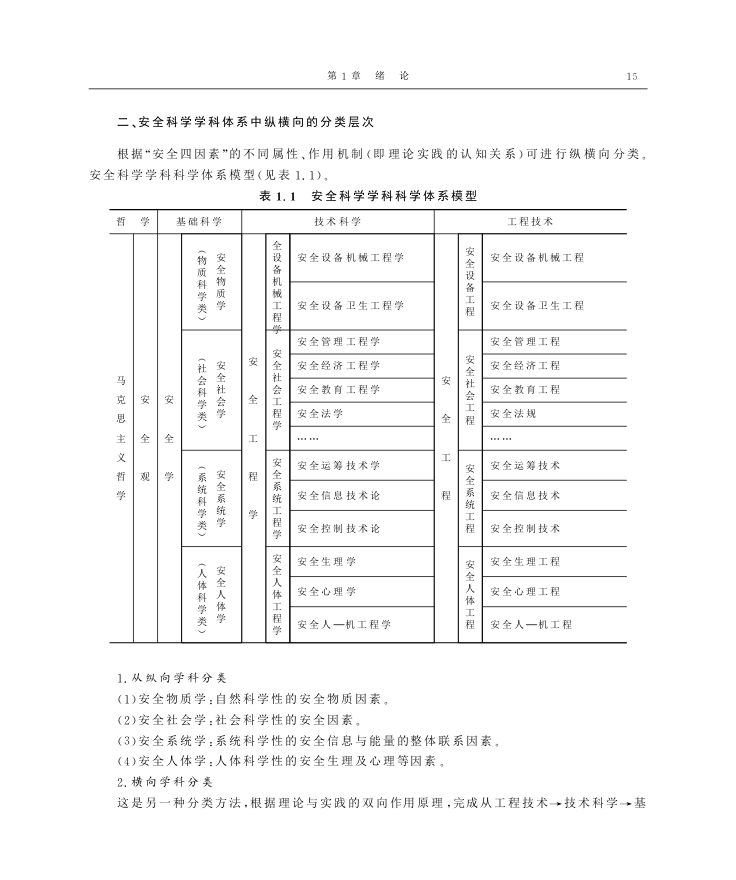table: (109, 209, 627, 644)
